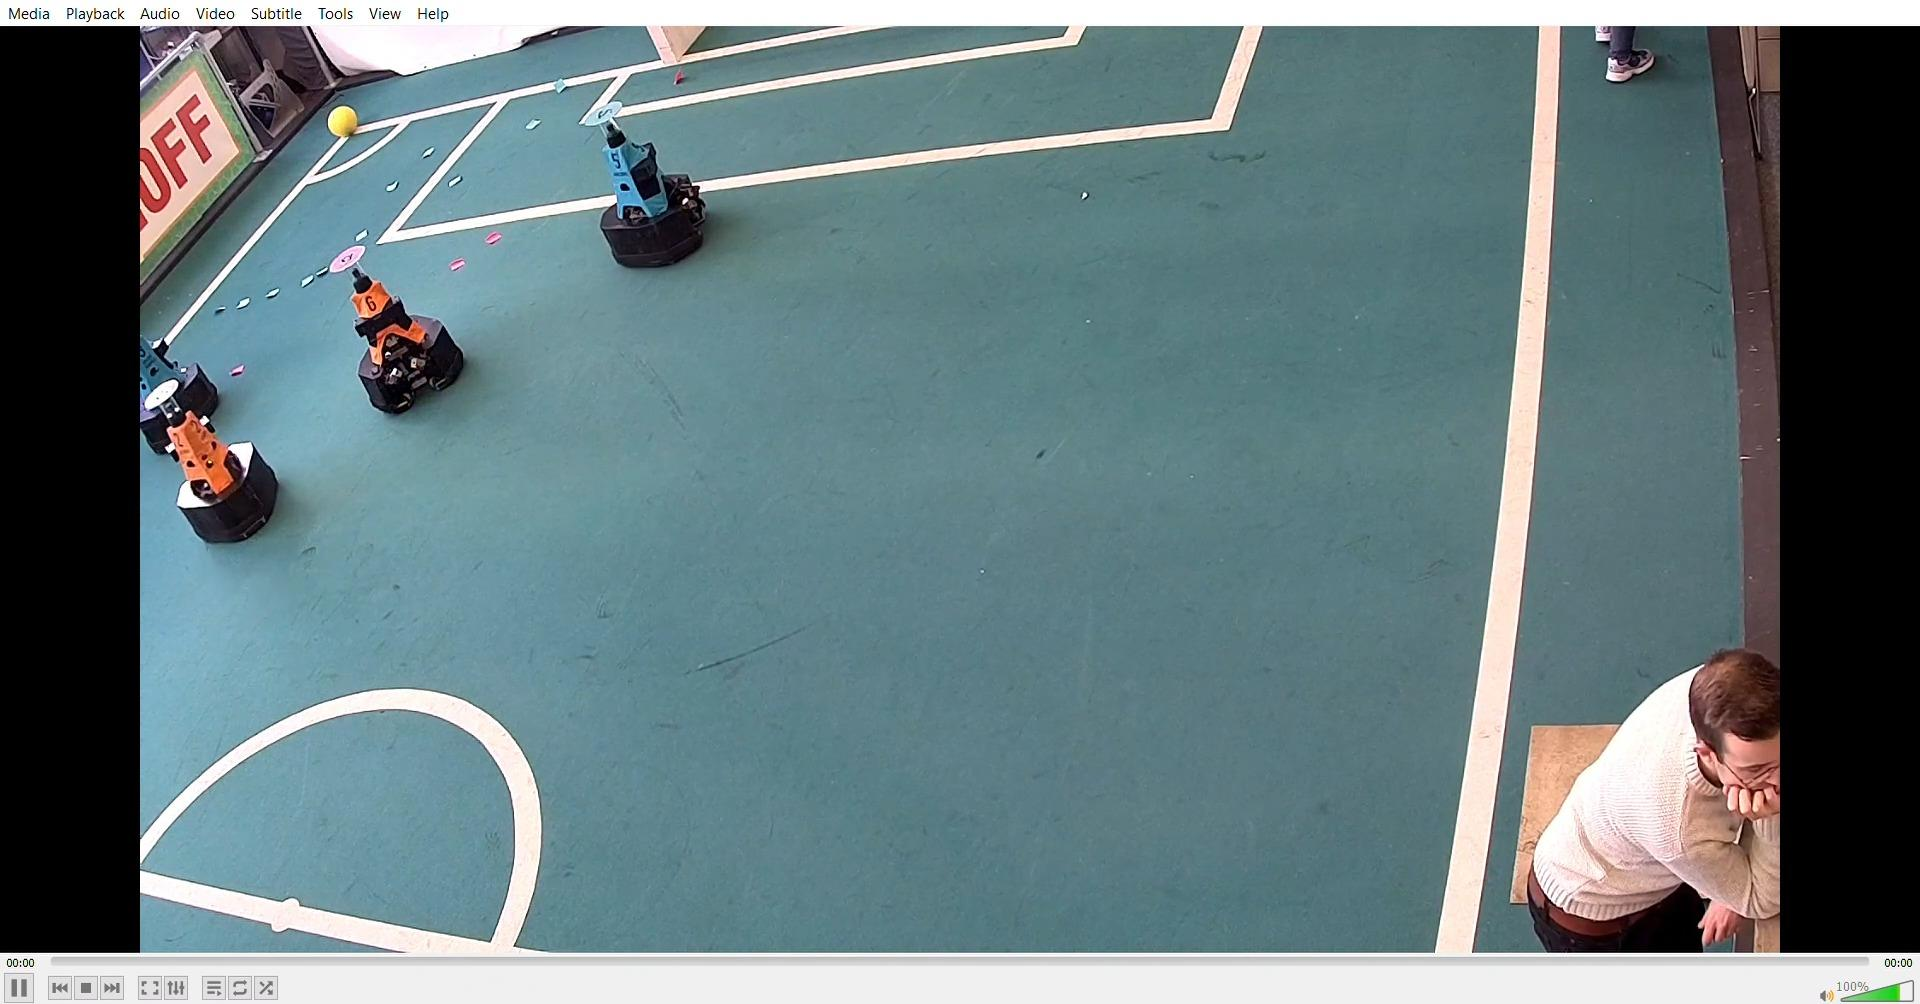Ball: (334, 104, 368, 137)
Team_Blue: (582, 91, 720, 273), (137, 316, 231, 447)
Team_Red: (325, 235, 469, 413), (159, 382, 288, 545)
